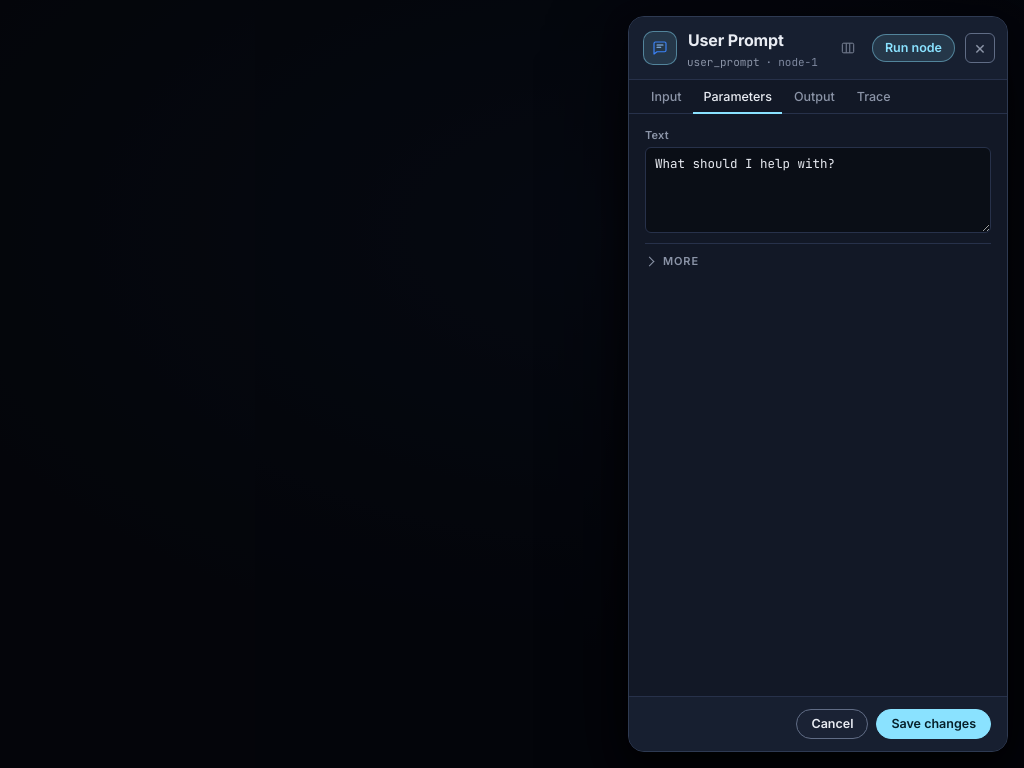
Test case: NodeInspector › renders telemetry, duration and error remediation on the Trace tab
Click the tab "Trace": [874, 97] box [847,80,901,114]
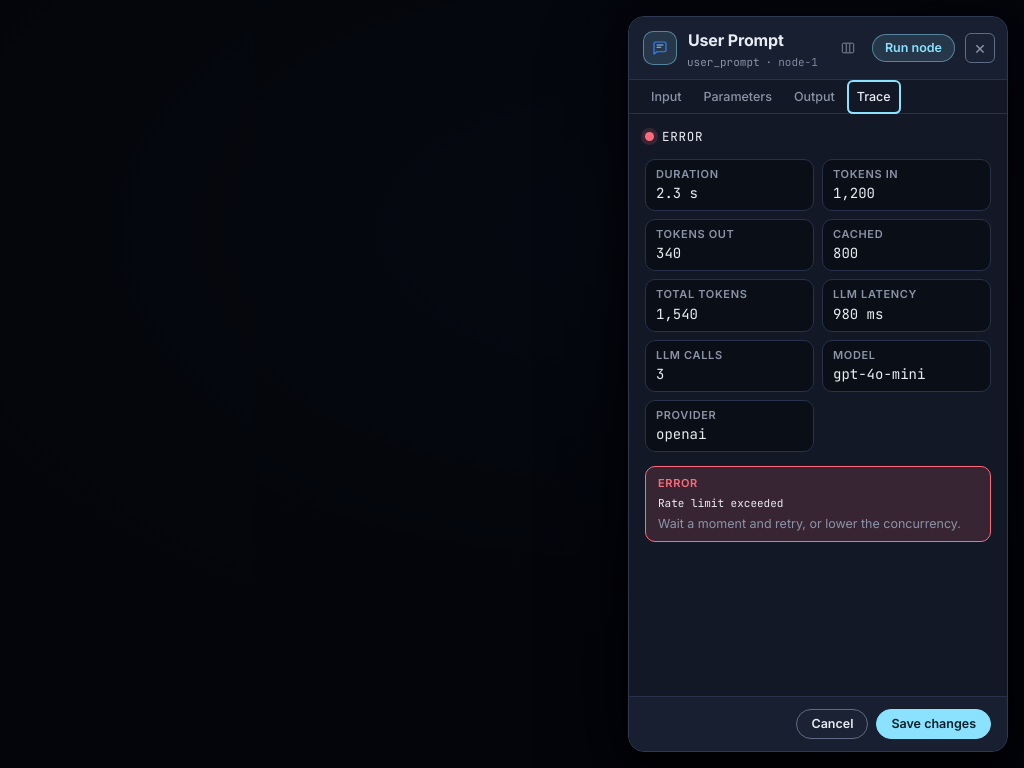
Expected: the text with test id "insp-trace-status" reads "error", [662,128,703,145]
Expected: the text "2.3 s" is shown, [656,184,698,202]
Expected: the text "1,200" is shown, [833,184,875,202]
